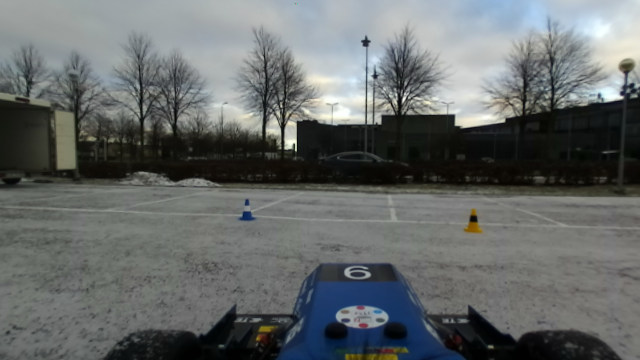blue: (236, 199, 256, 222)
yellow: (463, 207, 483, 235)
